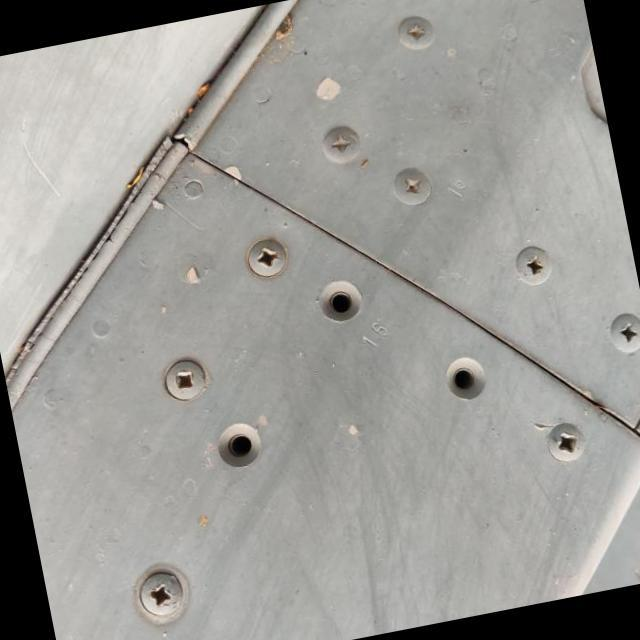Fastener Damage: (180, 384, 296, 494), (422, 332, 512, 424), (294, 259, 382, 351)
